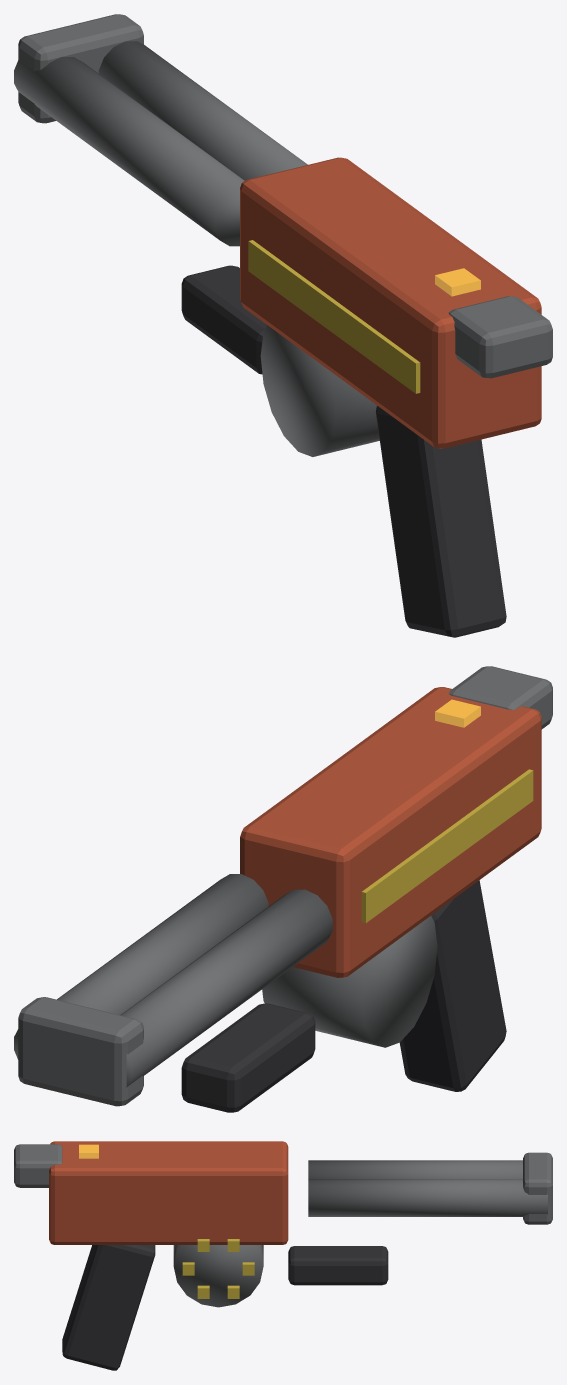
File: flechette_caster.glb
3 views of the same model, one above another, from view 1: azimuth 30°, elevation 25°; view 2: azimuth 150°, elevation 25°; view 3: azimuth 270°, elevation 25° (orthographic). The views are drawn at different scales.
Visible parts, largest first — view 1: Cube, Cube.008, Cylinder, Cylinder.001, Cylinder.002, Cube.010, Cube.011, Cube.009, Cube.001, Cube.012; view 2: Cube, Cylinder, Cube.008, Cylinder.002, Cube.001, Cylinder.001, Cube.009, Cube.011, Cube.010, Cube.012; view 3: Cube, Cylinder.001, Cube.008, Cylinder.002, Cylinder, Cube.009, Cube.010, Cube.001, Cube.012.
Boxes of the visible parts, bbox=[...] form: Cube: bbox=[240, 157, 541, 448]; Cube.008: bbox=[375, 406, 506, 637]; Cylinder: bbox=[14, 57, 244, 246]; Cylinder.001: bbox=[98, 41, 307, 180]; Cylinder.002: bbox=[260, 325, 379, 456]; Cube.010: bbox=[448, 296, 552, 378]; Cube.011: bbox=[248, 240, 420, 393]; Cube.009: bbox=[181, 265, 266, 374]; Cube.001: bbox=[18, 14, 143, 123]; Cube.012: bbox=[435, 268, 480, 296]; Cube: bbox=[240, 687, 541, 977]; Cylinder: bbox=[120, 889, 332, 1087]; Cube.008: bbox=[399, 880, 506, 1091]; Cylinder.002: bbox=[262, 916, 437, 1047]; Cube.001: bbox=[18, 997, 143, 1106]; Cylinder.001: bbox=[14, 874, 268, 1059]; Cube.009: bbox=[181, 1003, 315, 1112]; Cube.011: bbox=[361, 769, 533, 923]; Cube.010: bbox=[448, 666, 552, 729]; Cube.012: bbox=[435, 699, 480, 727]; Cube: bbox=[49, 1141, 288, 1244]; Cylinder.001: bbox=[308, 1179, 547, 1216]; Cube.008: bbox=[62, 1245, 155, 1370]; Cylinder.002: bbox=[173, 1245, 263, 1307]; Cylinder: bbox=[308, 1160, 522, 1178]; Cube.009: bbox=[288, 1246, 388, 1285]; Cube.010: bbox=[14, 1144, 62, 1187]; Cube.001: bbox=[523, 1152, 552, 1224]; Cube.012: bbox=[79, 1144, 98, 1158].
Bounding box in the file's own units: 0.0835 × 0.2379 × 0.54.
